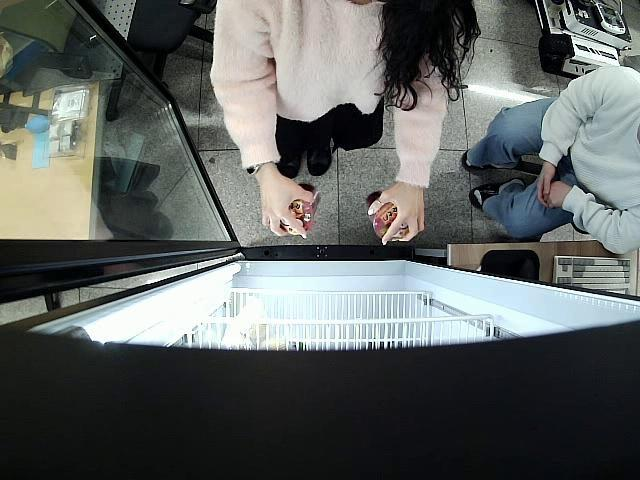06_nuguri_S: (280, 182, 320, 234), (367, 191, 408, 240)
